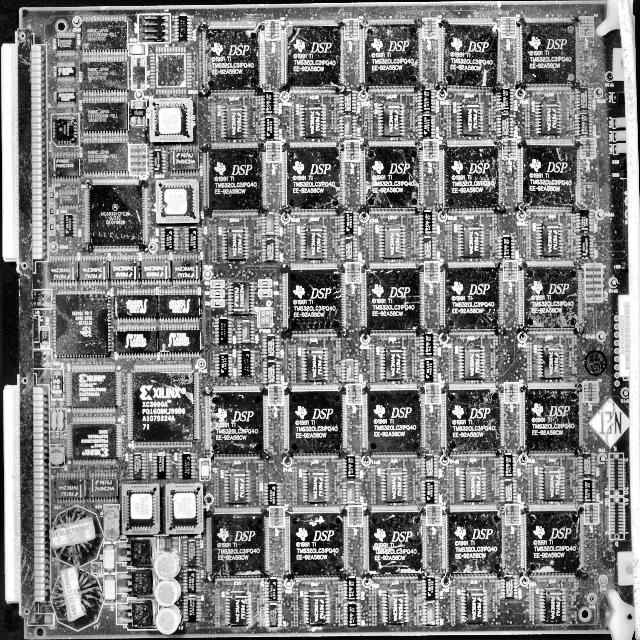PCB: (1, 3, 638, 640)
